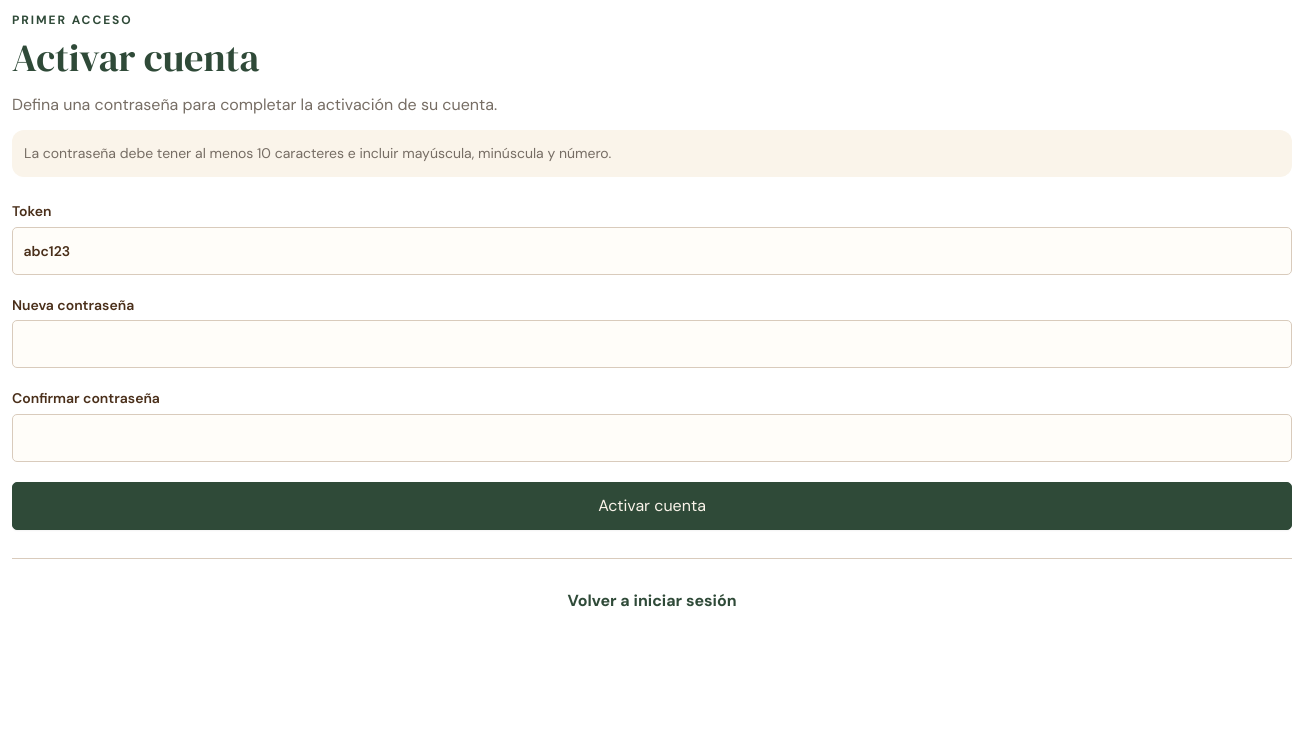
Test: TokenPasswordPage activation › maps authoritative backend outcome: Activation token has already been used
The image size is (1304, 732).
Type "Secure12345" into the password field labelled "Nueva contraseña" at (652, 344), box top-left (12, 320), bottom-right (1292, 368)
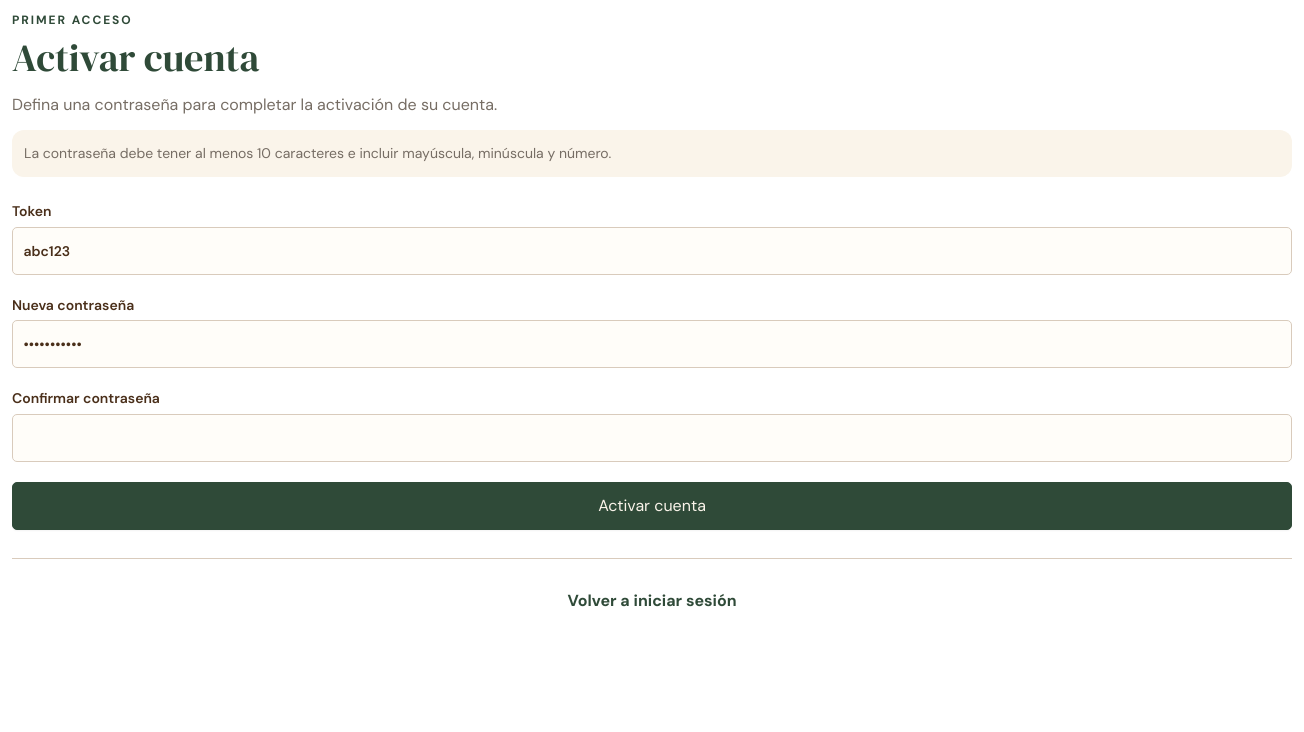
Type "Secure12345" into the password field labelled "Confirmar contraseña" at (652, 438), box top-left (12, 414), bottom-right (1292, 462)
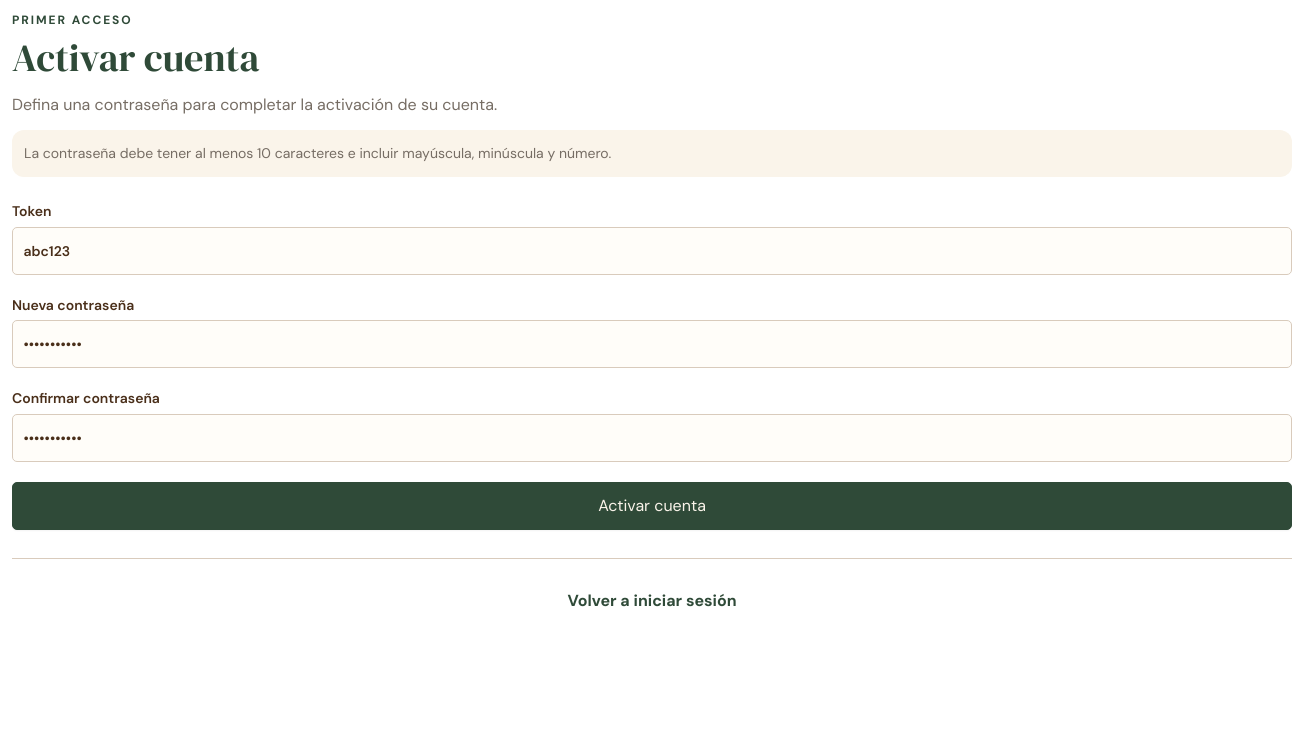
Click the button "Activar cuenta" at (652, 506), box top-left (12, 482), bottom-right (1292, 530)
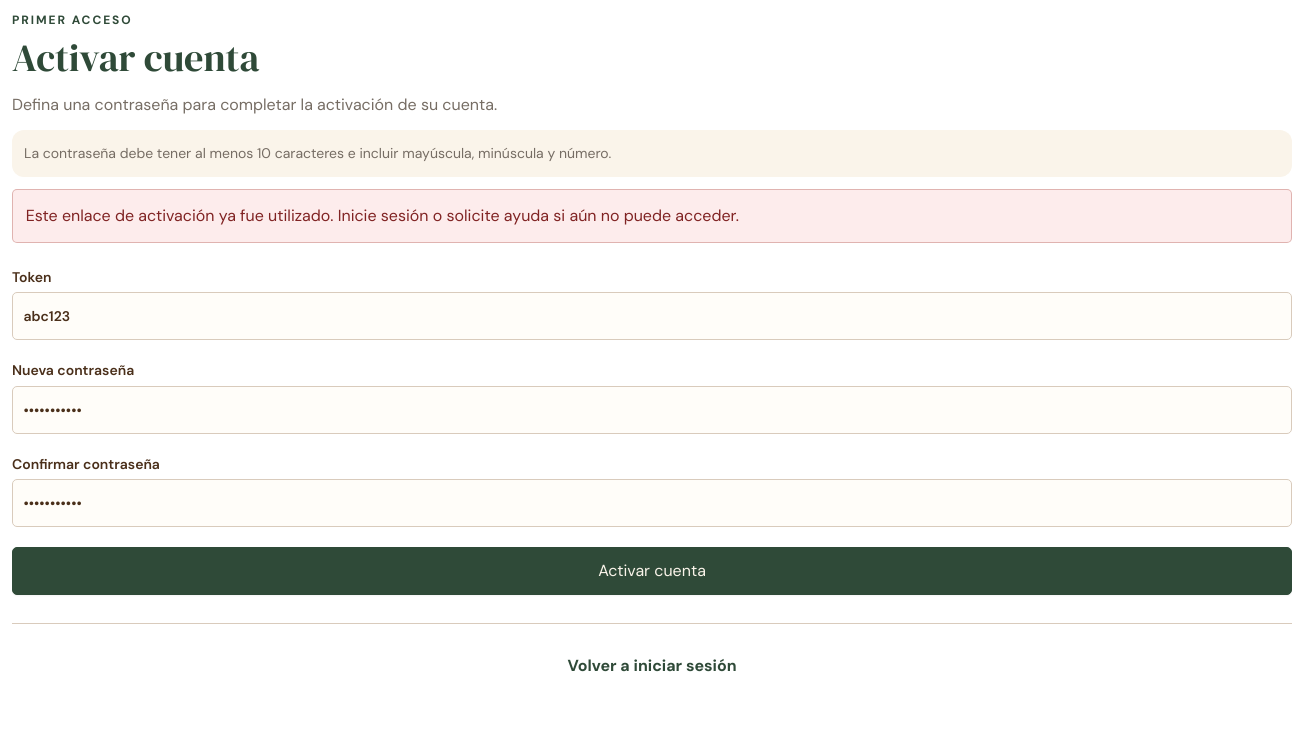
Expected: the message shows "ya fue utilizado", top-left (26, 205), bottom-right (739, 226)
